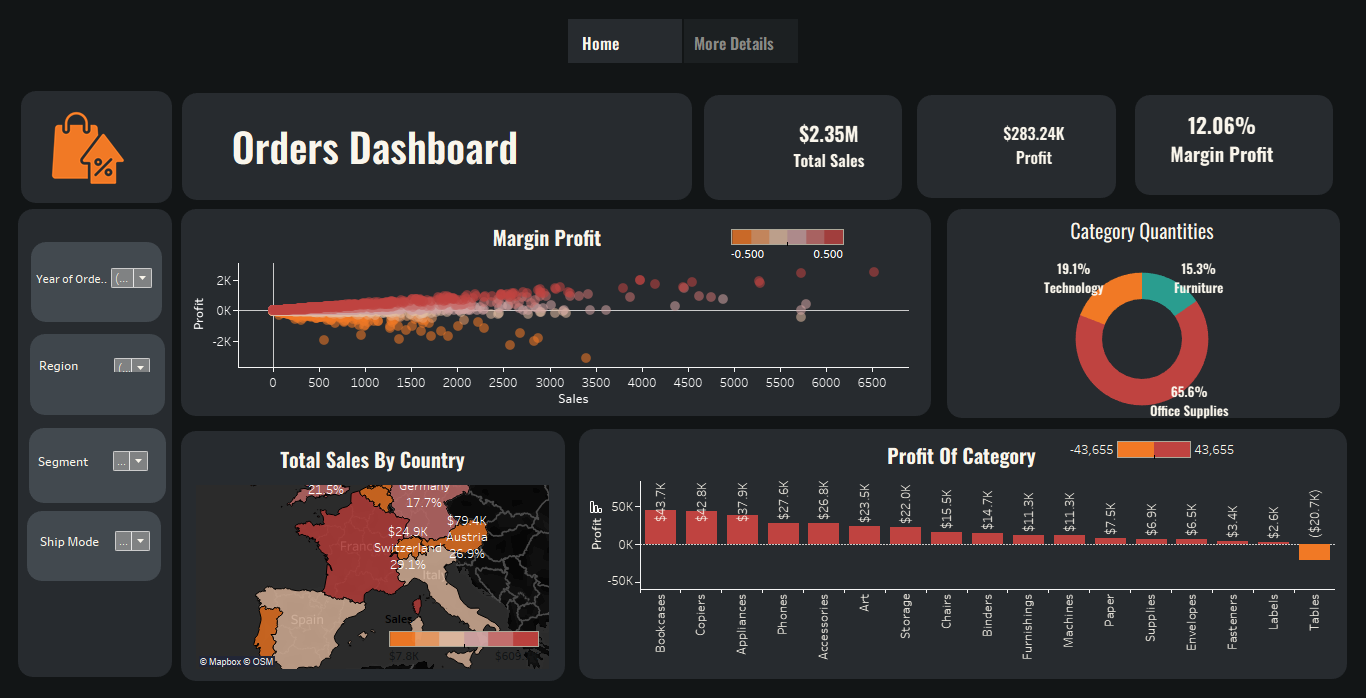

The page's visual inventory and layout, read from the dashboard file:
{"tool":"tableau","page":{"name":"Dashboard 3","canvas":[1000,1000],"units":"permille","ordinal":2},"visuals":[{"type":"worksheet","title":"Sheet 10","mark":"Automatic","box":[855.2,41.7,115.5,119.6]},{"type":"image","param":"Image/improve.png","box":[30.2,43.5,66,126.8]},{"type":"worksheet","title":"Total Sales","mark":"Automatic","box":[578.4,54.4,85.2,105.1]},{"type":"text","box":[164.1,59.8,320.8,90.6]},{"type":"image","param":"Image/investment (1).png","box":[525.2,63.4,54.1,83.3]},{"type":"worksheet","title":"Profit_card","mark":"Automatic","box":[731.4,63.4,76.1,108.7]},{"type":"image","param":"Image/profit.png","box":[685.6,72.5,42.2,70.7]},{"type":"worksheet","title":"Sheet 5","mark":"Pie","rows":["Calculation_1296473751122272264","Calculation_1296473751122296842"],"box":[713.1,210.1,253,347.8]},{"type":"worksheet","title":"Scutter_plot","mark":"Automatic","rows":["Profit"],"cols":["Sales"],"box":[134.7,222.8,532.5,311.6]},{"type":"legend","title":"Scutter_plot","param":"[federated.099zjbj1m79hfn19igkxx1rdtmez].[usr:Calculation_1296473751105032197:qk","box":[532.5,233.7,89.8,72.5]},{"type":"filter","title":"Sheet 3","param":"[federated.099zjbj1m79hfn19igkxx1rdtmez].[yr:Order Date:ok]","box":[21.1,304.4,88,34.4]},{"type":"filter","title":"Sheet 3","param":"[federated.099zjbj1m79hfn19igkxx1rdtmez].[none:Region:nk]","box":[22.9,452.9,84.3,23.6]},{"type":"worksheet","title":"Sheet 3","mark":"Automatic","rows":["Profit"],"cols":["Sub-Category"],"box":[429.9,581.5,553.6,384.1]},{"type":"worksheet","title":"Map","mark":"Multipolygon","box":[136.3,581.7,267.7,389.9]},{"type":"legend","title":"Sheet 3","param":"[federated.099zjbj1m79hfn19igkxx1rdtmez].[sum:Profit:qk]","box":[783.7,583.3,128.3,96]},{"type":"filter","title":"Sheet 3","param":"[federated.099zjbj1m79hfn19igkxx1rdtmez].[none:Segment:nk]","box":[22,606.9,83.4,32.6]},{"type":"filter","title":"Sheet 3","param":"[federated.099zjbj1m79hfn19igkxx1rdtmez].[none:Ship Mode:nk]","box":[23.8,737.3,83.4,34.4]},{"type":"legend","title":"Map","param":"[federated.099zjbj1m79hfn19igkxx1rdtmez].[sum:Sales:qk]","box":[279.6,869.6,117.3,96]}]}

Visuals, with their boxes on the dashboard's canvas, which has no fixed pixel size, in thousandths of its width and height (x1, y1, x2, y2). These are canvas units, not pixel positions in the 1366x698 screenshot, which may show the page scaled, cropped or inside an application window:
"Sheet 10" worksheet: locate(855, 42, 971, 161)
image: locate(30, 44, 96, 170)
"Total Sales" worksheet: locate(578, 54, 664, 160)
text: locate(164, 60, 485, 150)
image: locate(525, 63, 579, 147)
"Profit_card" worksheet: locate(731, 63, 808, 172)
image: locate(686, 72, 728, 143)
"Sheet 5" worksheet (Pie marks): locate(713, 210, 966, 558)
"Scutter_plot" worksheet: locate(135, 223, 667, 534)
"Scutter_plot" legend: locate(532, 234, 622, 306)
"Sheet 3" filter: locate(21, 304, 109, 339)
"Sheet 3" filter: locate(23, 453, 107, 476)
"Sheet 3" worksheet: locate(430, 582, 984, 966)
"Map" worksheet (Multipolygon marks): locate(136, 582, 404, 972)
"Sheet 3" legend: locate(784, 583, 912, 679)
"Sheet 3" filter: locate(22, 607, 105, 640)
"Sheet 3" filter: locate(24, 737, 107, 772)
"Map" legend: locate(280, 870, 397, 966)
